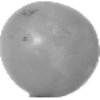faced: (34, 43, 73, 77)
